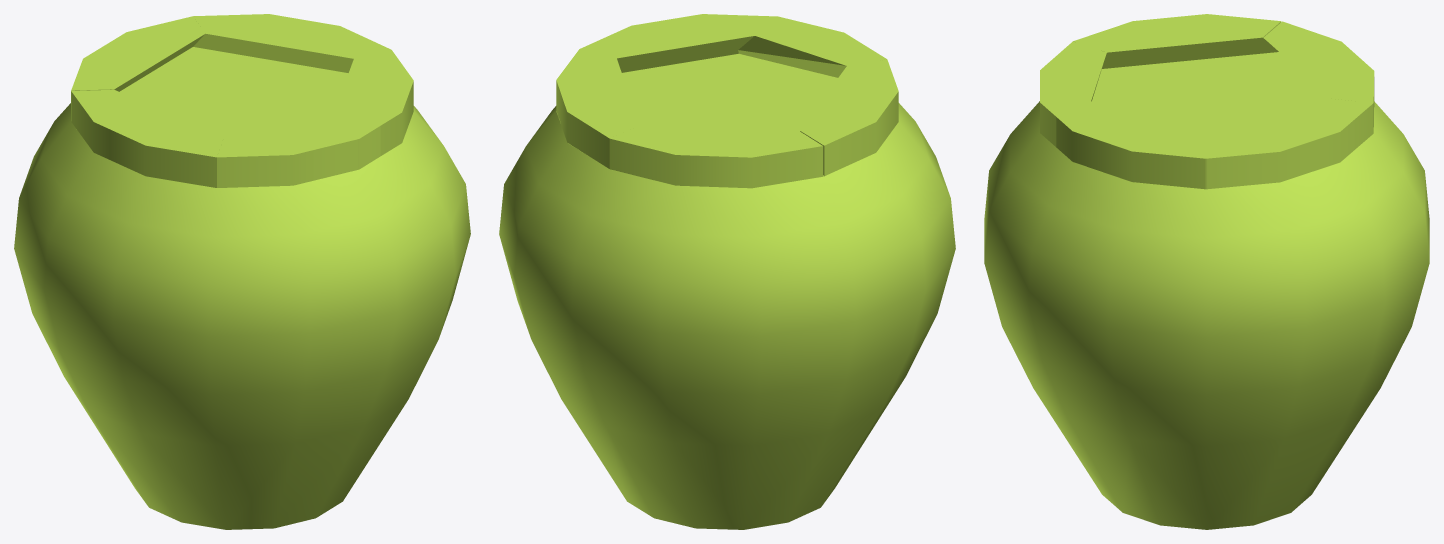
Rendered from pot_convex.fbx.
The picture shows the model from 3 angles, left to right: view 1: azimuth 30°, elevation 25°; view 2: azimuth 150°, elevation 25°; view 3: azimuth 270°, elevation 25°; orthographic projection.
Visible parts, largest first — view 1: pot_convex, pot_convex.002, pot_convex.001, pot_convex.004, pot_convex.003, pot_convex.005; view 2: pot_convex, pot_convex.003, pot_convex.002, pot_convex.004, pot_convex.005, pot_convex.001; view 3: pot_convex, pot_convex.004, pot_convex.005, pot_convex.002, pot_convex.003, pot_convex.001.
Boxes of the visible parts, <box> form: pot_convex: <box>14,47,470,529</box>; pot_convex.002: <box>71,89,223,187</box>; pot_convex.001: <box>217,112,401,187</box>; pot_convex.004: <box>193,14,391,72</box>; pot_convex.003: <box>71,16,205,120</box>; pot_convex.005: <box>330,50,413,169</box>; pot_convex: <box>499,53,955,529</box>; pot_convex.003: <box>609,125,823,188</box>; pot_convex.002: <box>800,59,898,176</box>; pot_convex.004: <box>556,49,639,168</box>; pot_convex.005: <box>579,14,775,72</box>; pot_convex.001: <box>702,14,886,77</box>; pot_convex: <box>984,52,1429,529</box>; pot_convex.004: <box>1205,99,1373,189</box>; pot_convex.005: <box>1040,98,1206,189</box>; pot_convex.002: <box>1073,14,1281,68</box>; pot_convex.003: <box>1263,21,1374,126</box>; pot_convex.001: <box>1040,41,1106,146</box>.
Size of the model in its own units: 4.87 by 4.75 by 4.68.
